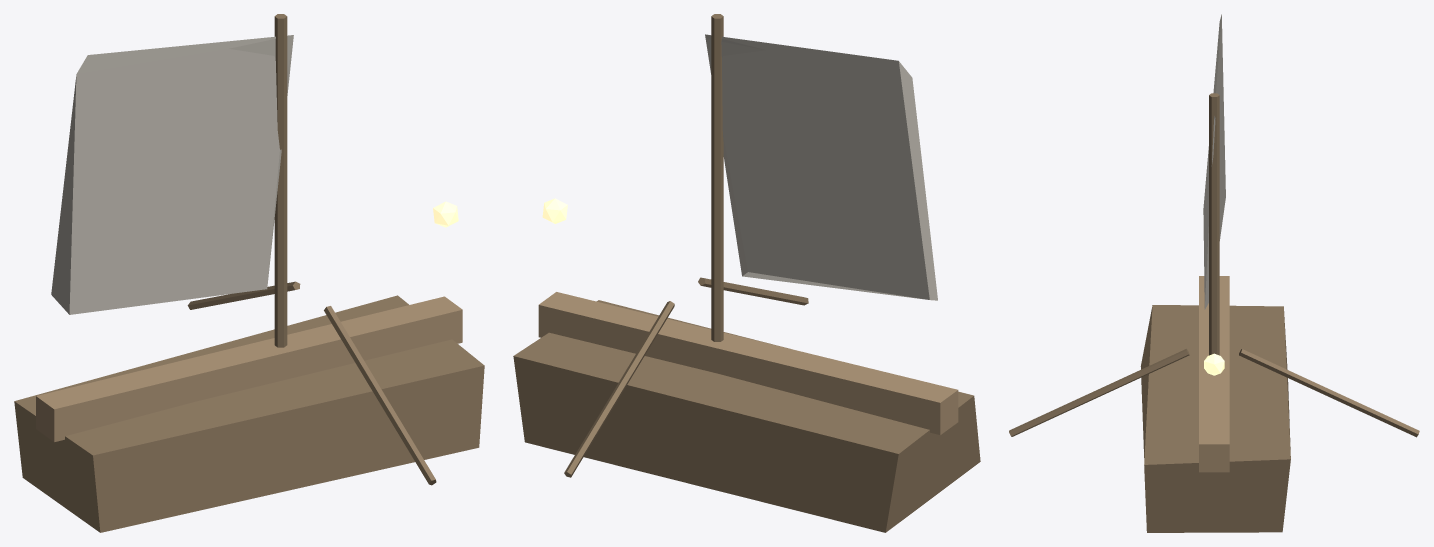
Rendered from skiff.glb.
3 views of the same model, side by side, from view 1: azimuth 30°, elevation 25°; view 2: azimuth 150°, elevation 25°; view 3: azimuth 270°, elevation 25° (orthographic). The views are drawn at different scales.
Parts seen in each view (by area): view 1: sailm, body, keel, mast, oar, oar.001; view 2: body, sailm, keel, mast, oar.001, oar; view 3: body, keel, mast, sailm, oar.001, oar.
Boxes of the visible parts, x1,y1,x2,y2 form: sailm: (51,35,293,314); body: (14,295,484,532); keel: (36,296,462,442); mast: (274,14,287,347); oar: (324,306,436,485); oar.001: (187,281,300,309); body: (513,300,980,532); sailm: (705,34,937,300); keel: (538,292,958,435); mast: (711,14,723,341); oar.001: (564,301,674,477); oar: (698,277,808,305); body: (1140,305,1290,532); keel: (1199,276,1229,472); mast: (1209,93,1219,355); sailm: (1203,14,1225,309); oar.001: (1239,349,1419,437); oar: (1009,348,1189,436).
Size of the model in its own units: 2.12 by 2.19 by 2.17.
